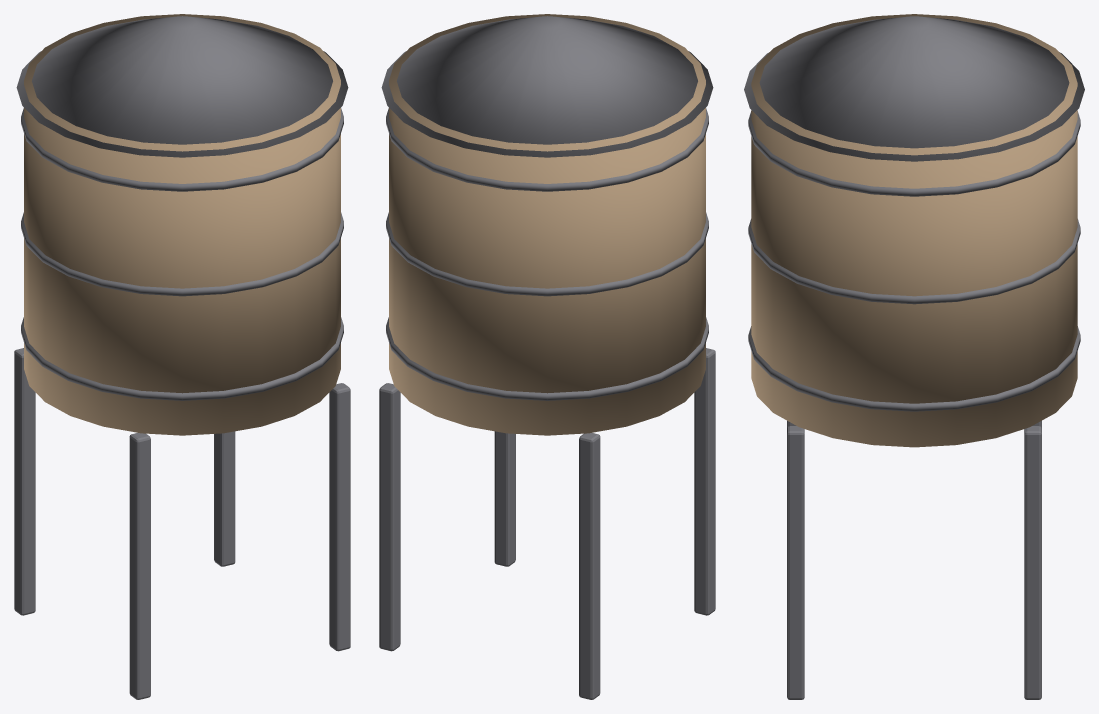
The model's file is water_tank.glb.
The picture shows the model from 3 angles, left to right: view 1: azimuth 30°, elevation 25°; view 2: azimuth 150°, elevation 25°; view 3: azimuth 270°, elevation 25°; orthographic projection. The views are drawn at different scales.
Visible parts, largest first — view 1: water_tank; view 2: water_tank; view 3: water_tank.
Part boxes in pixels (x1=…): water_tank: x1=14, y1=14, x2=350, y2=699; water_tank: x1=379, y1=14, x2=715, y2=699; water_tank: x1=744, y1=14, x2=1084, y2=699.
Bounding box in the file's own units: 2.3 × 4.65 × 2.3.
